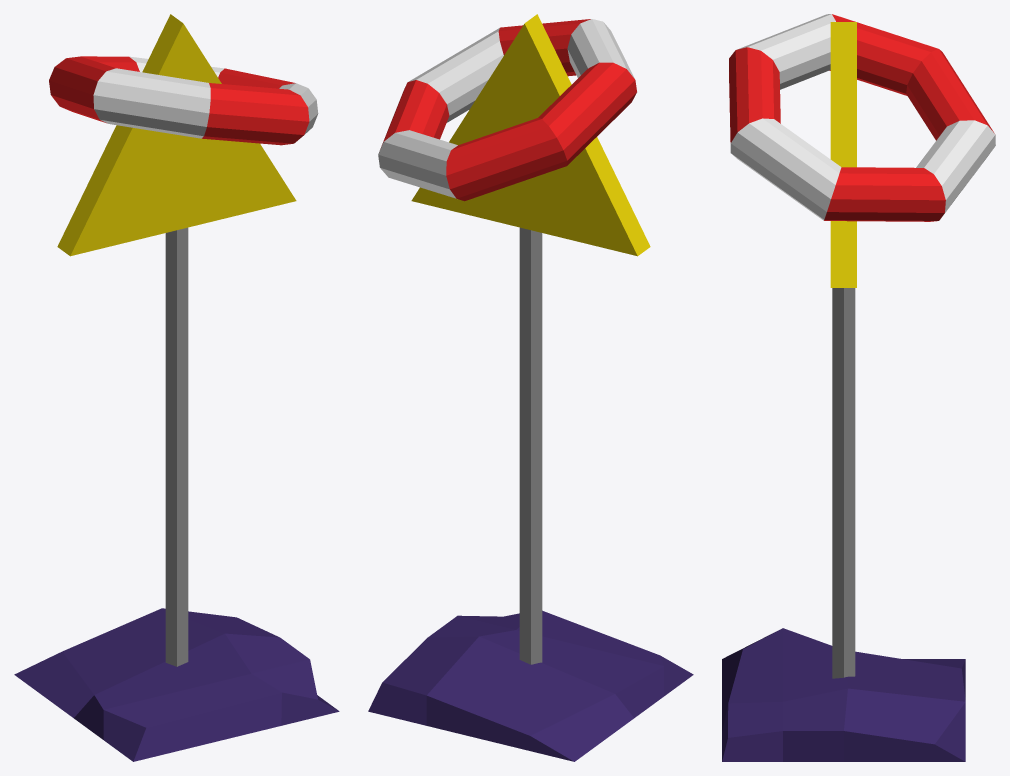
File: Sinal_de_Perigo_Tex.fbx
3 views of the same model, side by side, from view 1: azimuth 30°, elevation 25°; view 2: azimuth 150°, elevation 25°; view 3: azimuth 270°, elevation 25° (orthographic). The views are drawn at different scales.
Visible parts, largest first — view 1: Cube, Cylinder.001, Torus, Cylinder; view 2: Cube, Torus, Cylinder.001, Cylinder; view 3: Torus, Cube, Cylinder, Cylinder.001.
Part boxes in pixels (bbox=[...]): Cube: bbox=[14, 608, 339, 761]; Cylinder.001: bbox=[57, 14, 296, 256]; Torus: bbox=[49, 56, 318, 145]; Cylinder: bbox=[165, 227, 188, 666]; Cube: bbox=[368, 610, 693, 761]; Torus: bbox=[378, 19, 636, 201]; Cylinder.001: bbox=[411, 14, 650, 256]; Cylinder: bbox=[519, 227, 542, 664]; Torus: bbox=[729, 14, 995, 221]; Cube: bbox=[722, 628, 965, 761]; Cylinder: bbox=[832, 288, 855, 678]; Cylinder.001: bbox=[830, 22, 856, 287].
Bounding box in the file's own units: 239 × 624 × 225.
